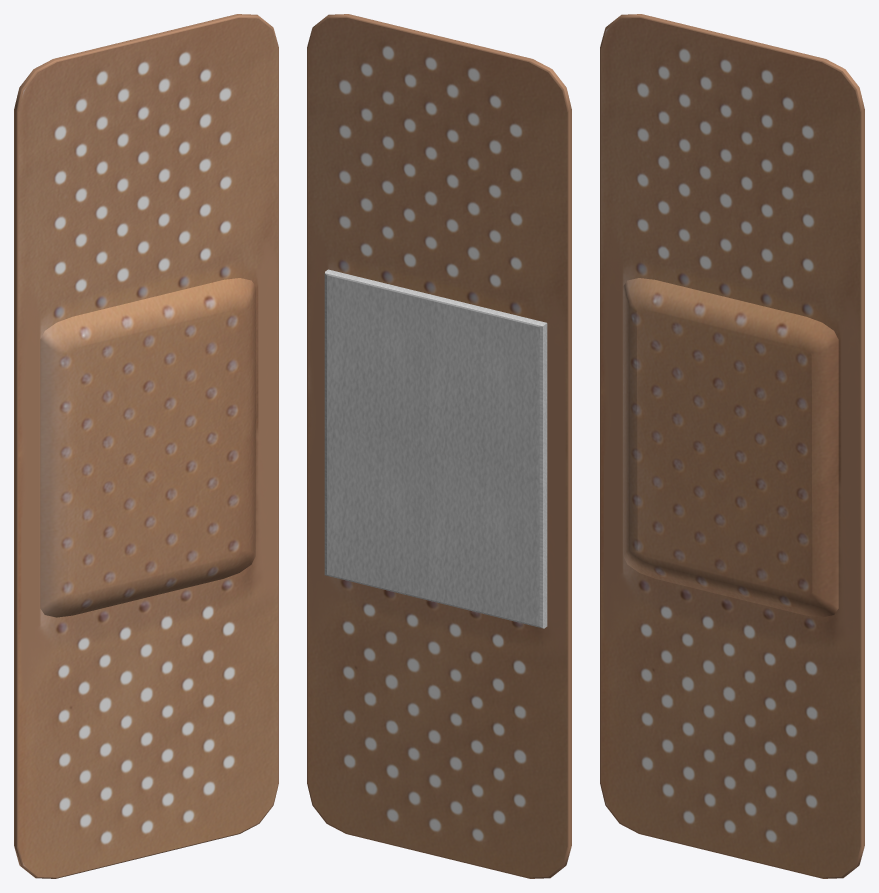
Rendered from bandaid.fbx.
The picture shows the model from 3 angles, left to right: view 1: azimuth 30°, elevation 25°; view 2: azimuth 150°, elevation 25°; view 3: azimuth 330°, elevation 25°; orthographic projection.
Visible parts, largest first — view 1: bandaid; view 2: bandaid; view 3: bandaid.
Boxes of the visible parts, left/top/right/bottom form: bandaid: left=14, top=14, right=278, bottom=878; bandaid: left=307, top=14, right=571, bottom=878; bandaid: left=600, top=14, right=864, bottom=878.
Size of the model in its own units: 1.91 by 5.69 by 0.1788.
1 material, 1 textured.
